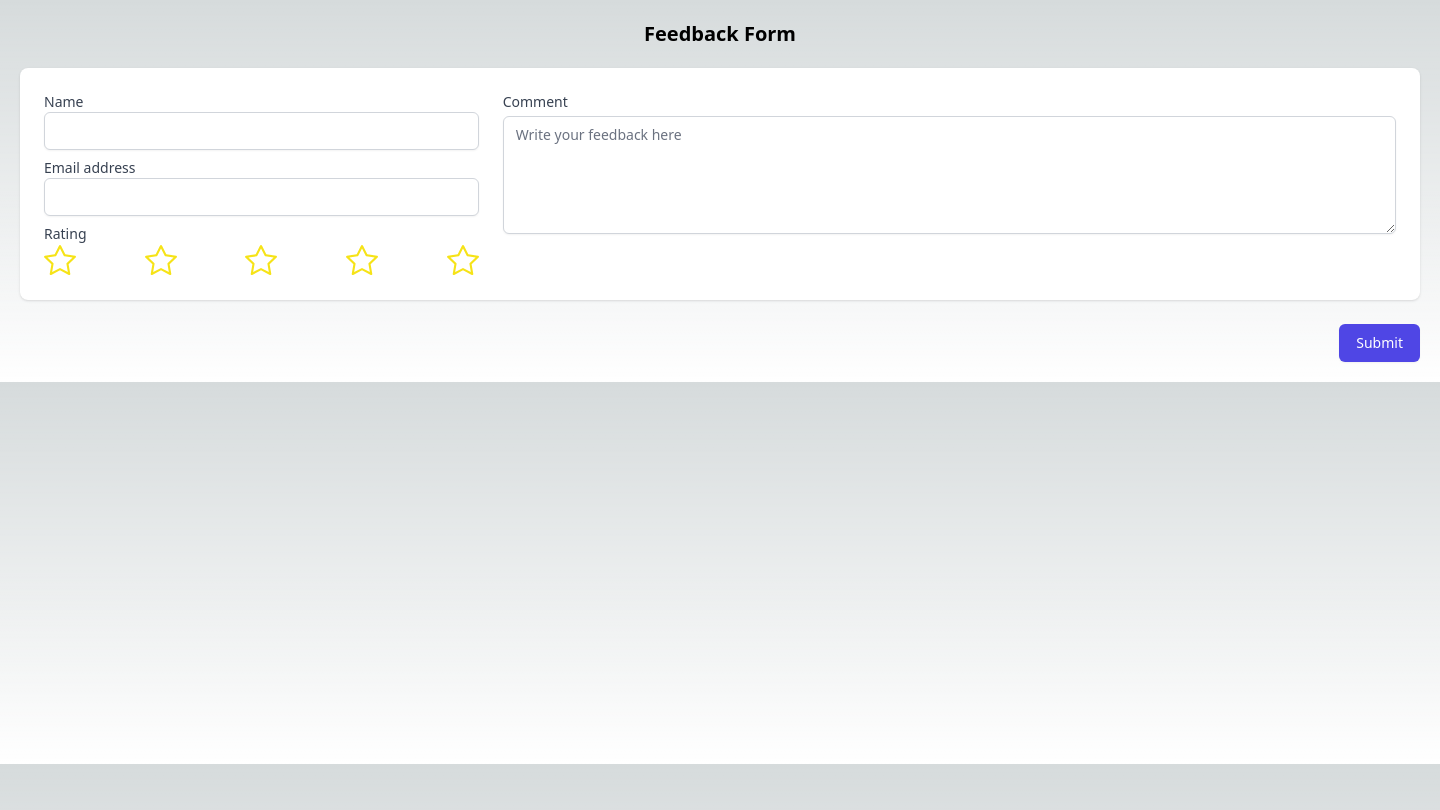
Test: Index Page › disables the Submit button when one field is incorrect and the others are correct
Note: the rest of the fields have correct values
Type "abc@me.com" into the field below "Email address". click: (261, 197)
box: x1=44 y1=178 x2=479 y2=216
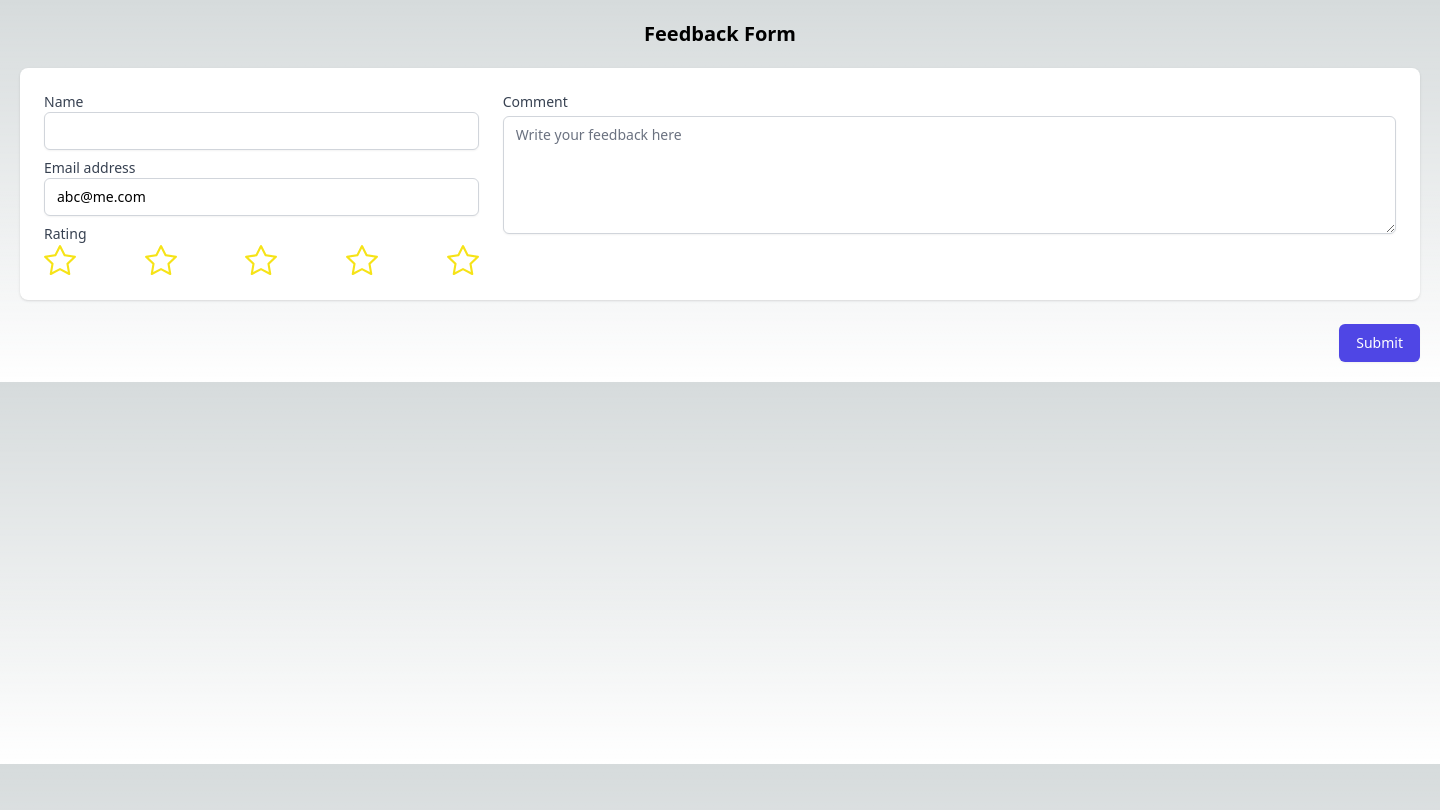
Type "Comment test" into the text box. click: (949, 175)
box: x1=503 y1=116 x2=1396 y2=234
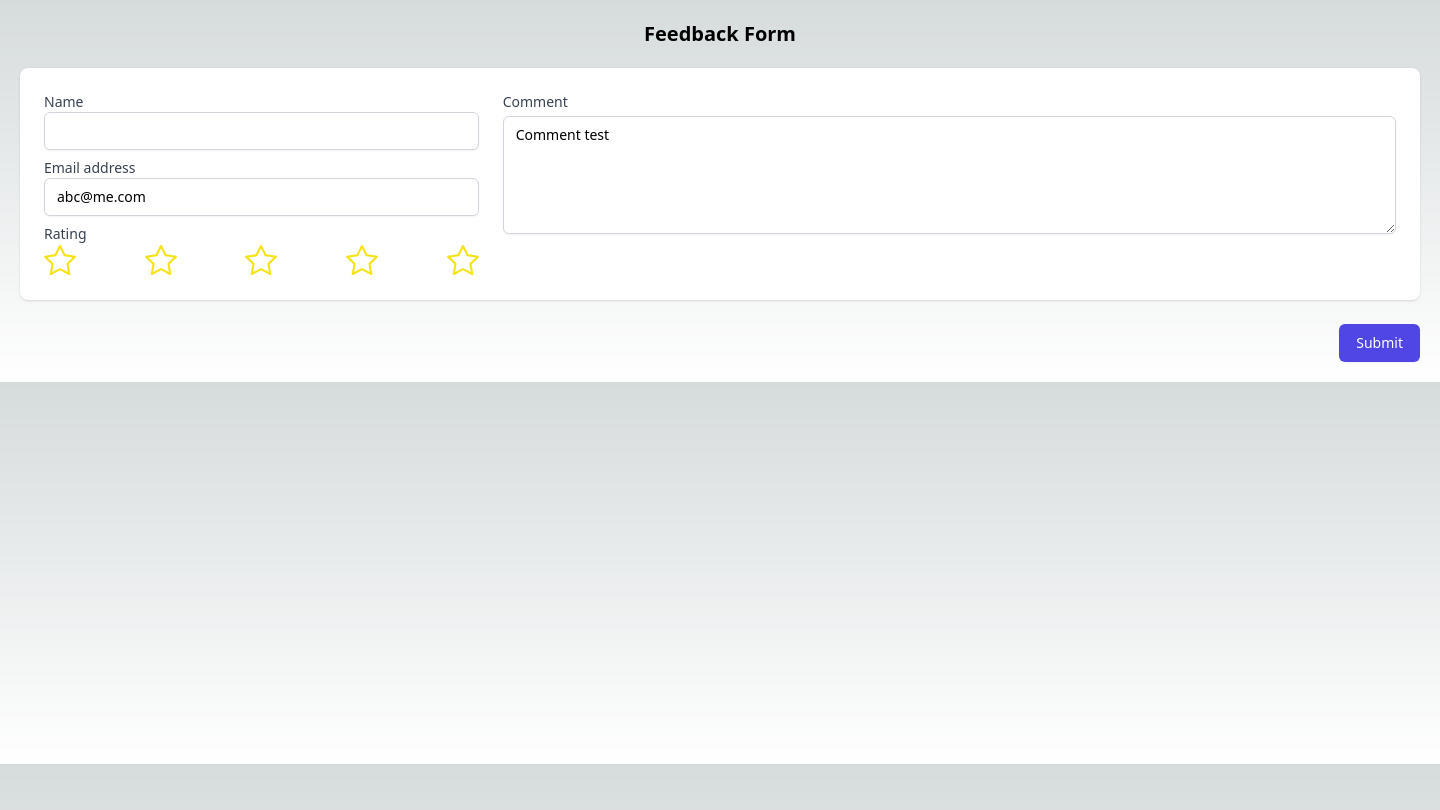
Click the 1st radio button. click: (463, 260)
box: x1=447 y1=244 x2=479 y2=276
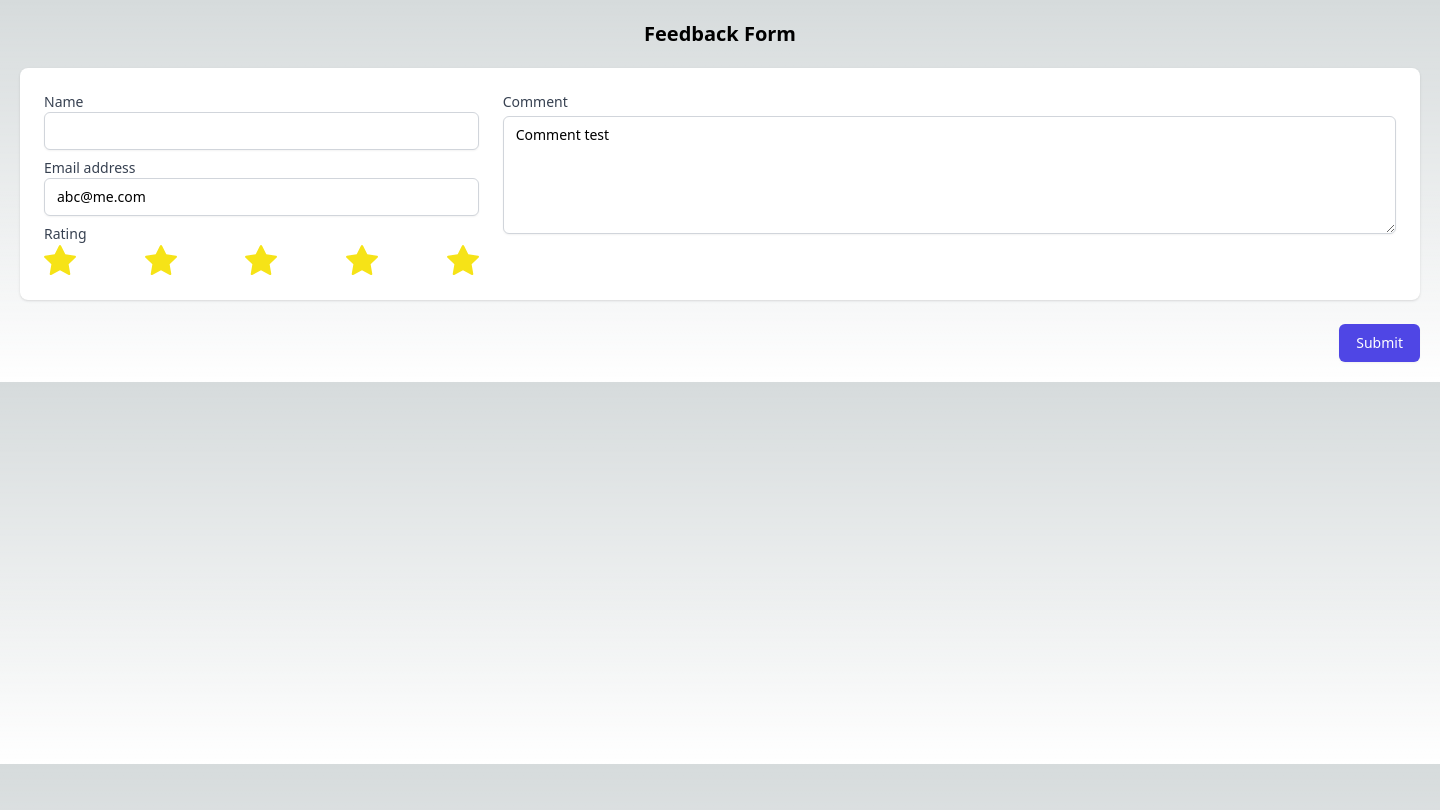
Click the button with aria-label "Form submission". click: (1380, 343)
box: x1=1339 y1=324 x2=1420 y2=362
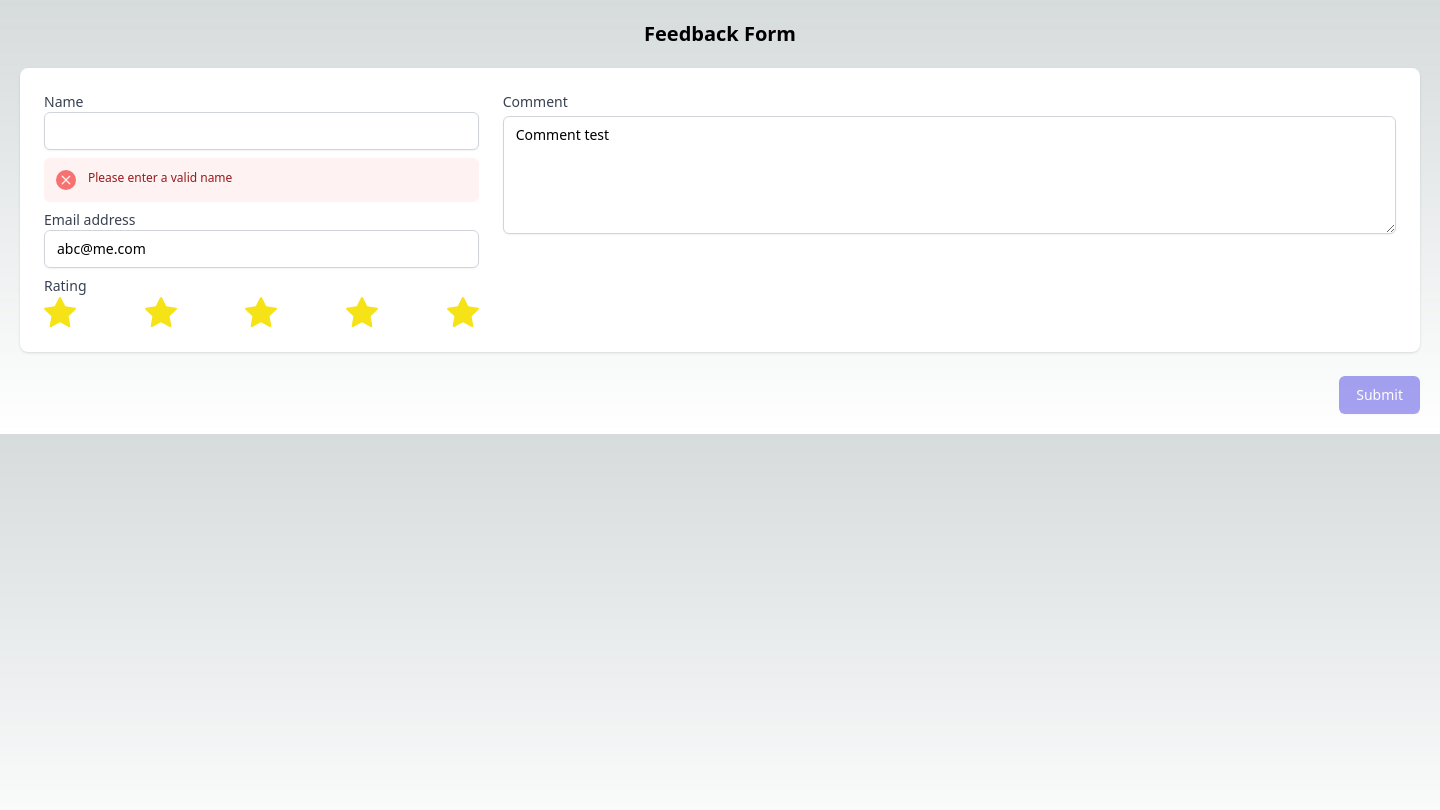
Check: the heading "Please enter a valid name" is shown, box x1=88 y1=170 x2=232 y2=186
Check: the button with aria-label "Form submission" is disabled, box x1=1339 y1=376 x2=1420 y2=414
